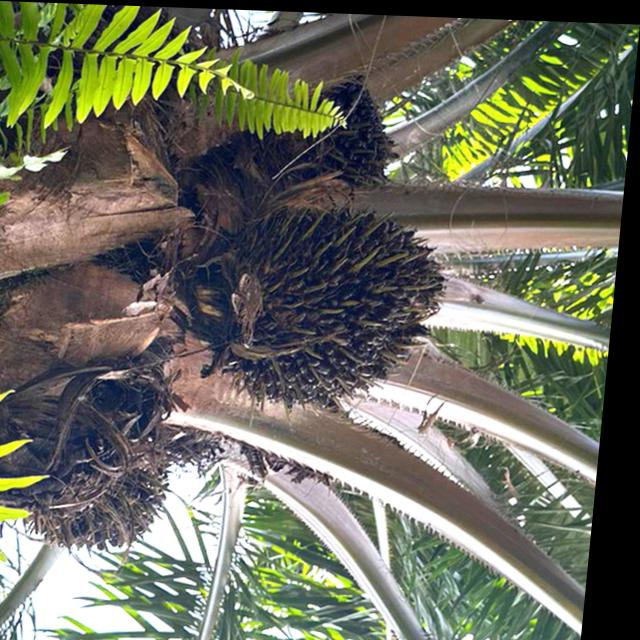almost: (207, 184, 470, 434)
